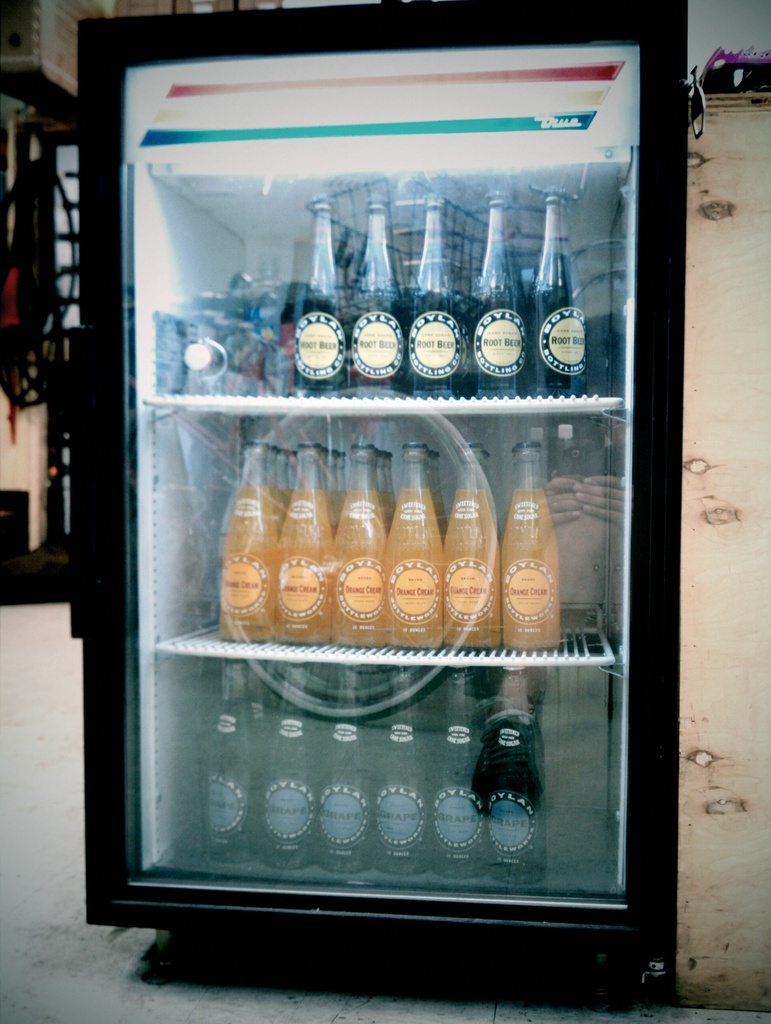handle: (65, 353, 101, 613)
refrigerator door: (115, 44, 648, 916)
